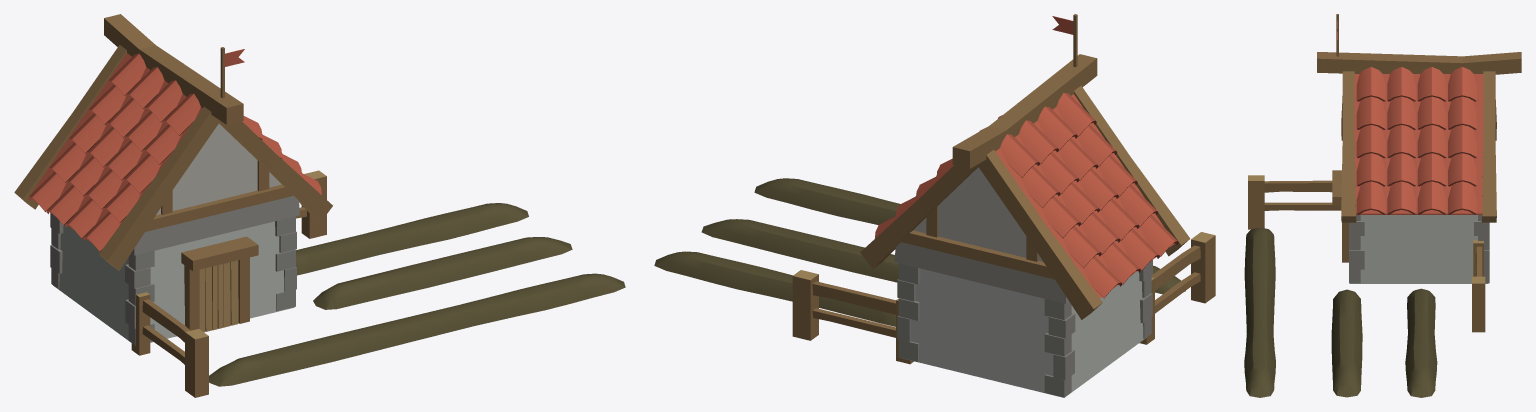
The model's file is small-farm.glb.
The picture shows the model from 3 angles, left to right: view 1: azimuth 30°, elevation 25°; view 2: azimuth 150°, elevation 25°; view 3: azimuth 270°, elevation 25°; orthographic projection. The views are drawn at different scales.
Parts seen in each view (by area): view 1: Farm_SecondAge_Level1; view 2: Farm_SecondAge_Level1; view 3: Farm_SecondAge_Level1.
Part boxes in pixels (x1,y1,x2,y2): Farm_SecondAge_Level1: (14,14,625,397); Farm_SecondAge_Level1: (654,14,1215,397); Farm_SecondAge_Level1: (1244,14,1521,397).
Size of the model in its own units: 1.81 by 1.07 by 1.11.
1 material, 1 textured.
